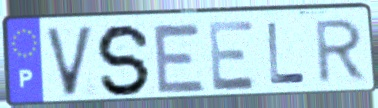E: (150, 21, 209, 95), (205, 17, 259, 93)
L: (265, 21, 308, 87)
R: (314, 16, 369, 87)
S: (94, 21, 155, 98)
V: (42, 23, 97, 100)
